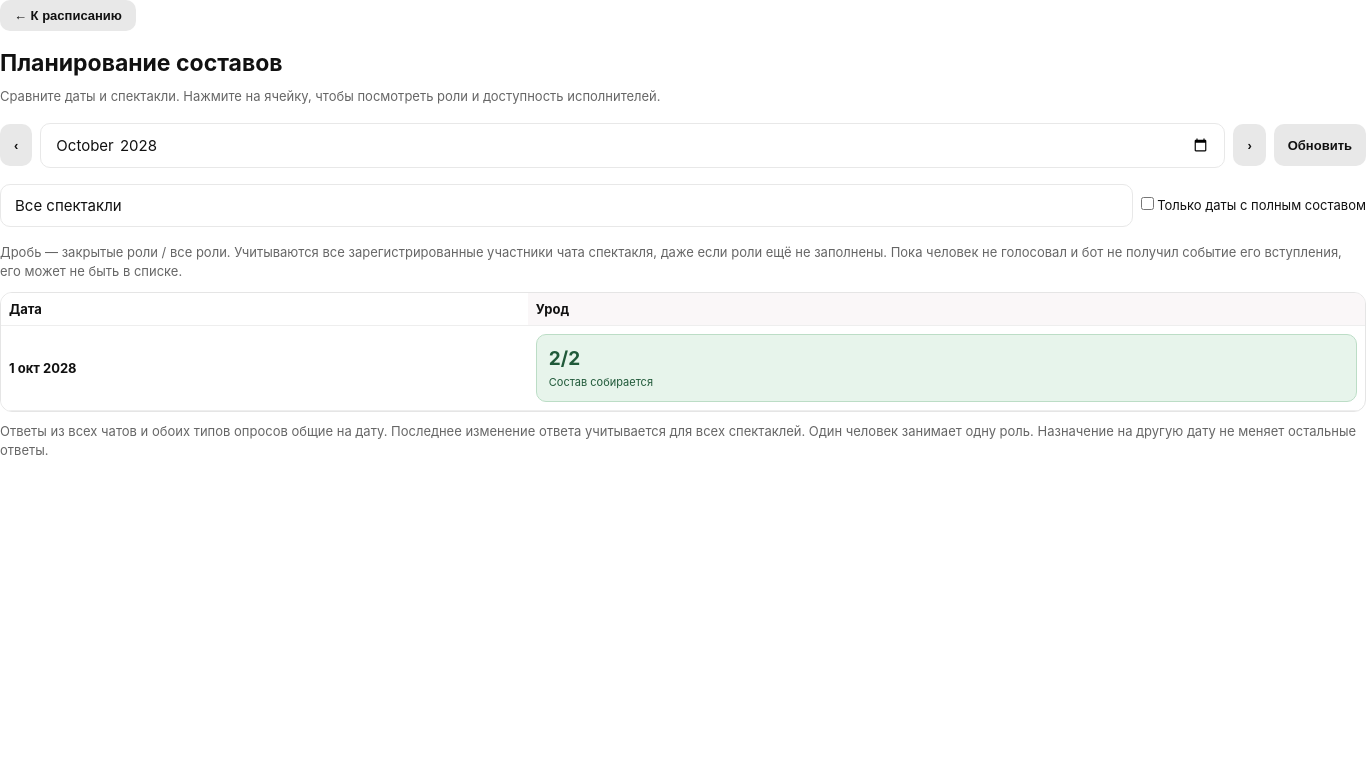
Test: members can inspect roles and answers but cannot assign or resume (pending: false)
What coordinates should you click on to do the following:
click the button "2/2 Состав собирается"
I would click on:
 (601, 382)
Its box is [536,334,1357,402].
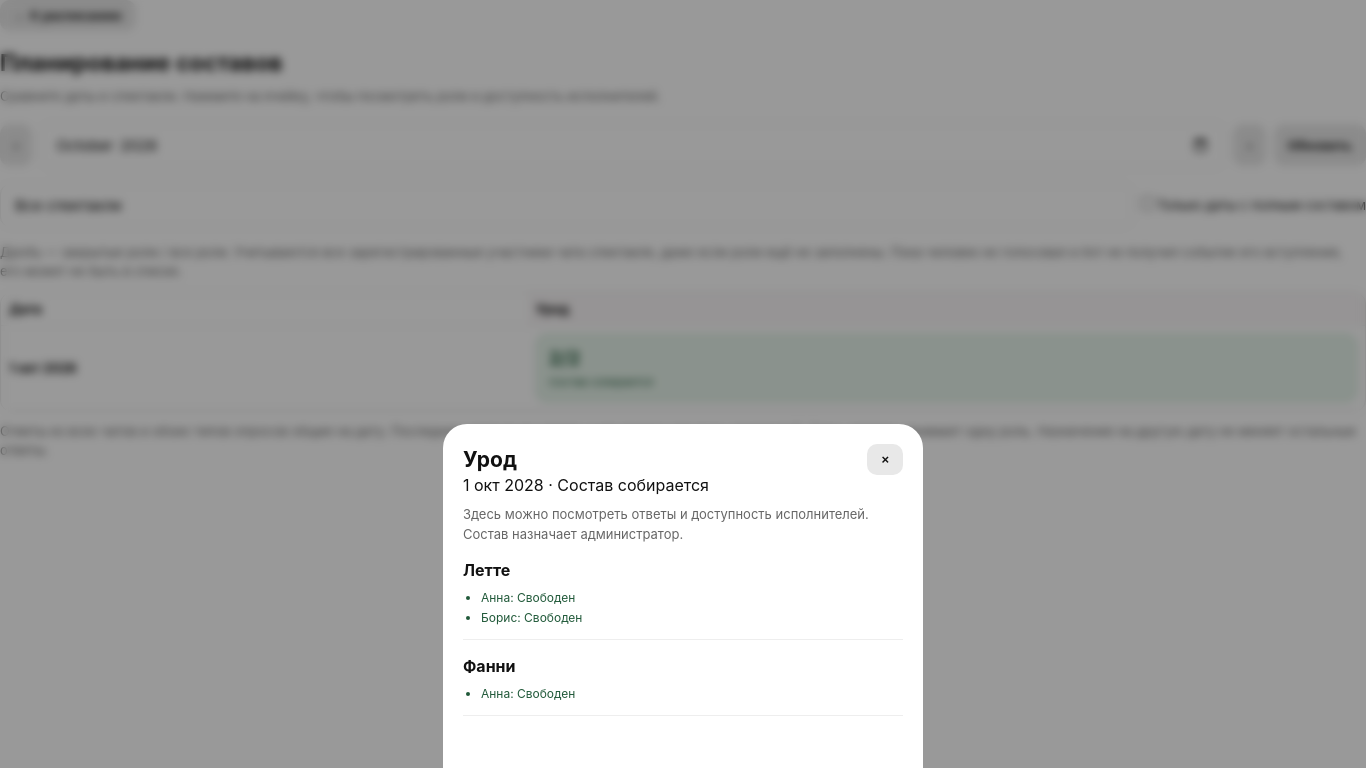
Check: the dialog shows "Летте", box [463,560,510,580]
Check: the dialog shows "Анна: Свободен", box [443,424,923,767]
